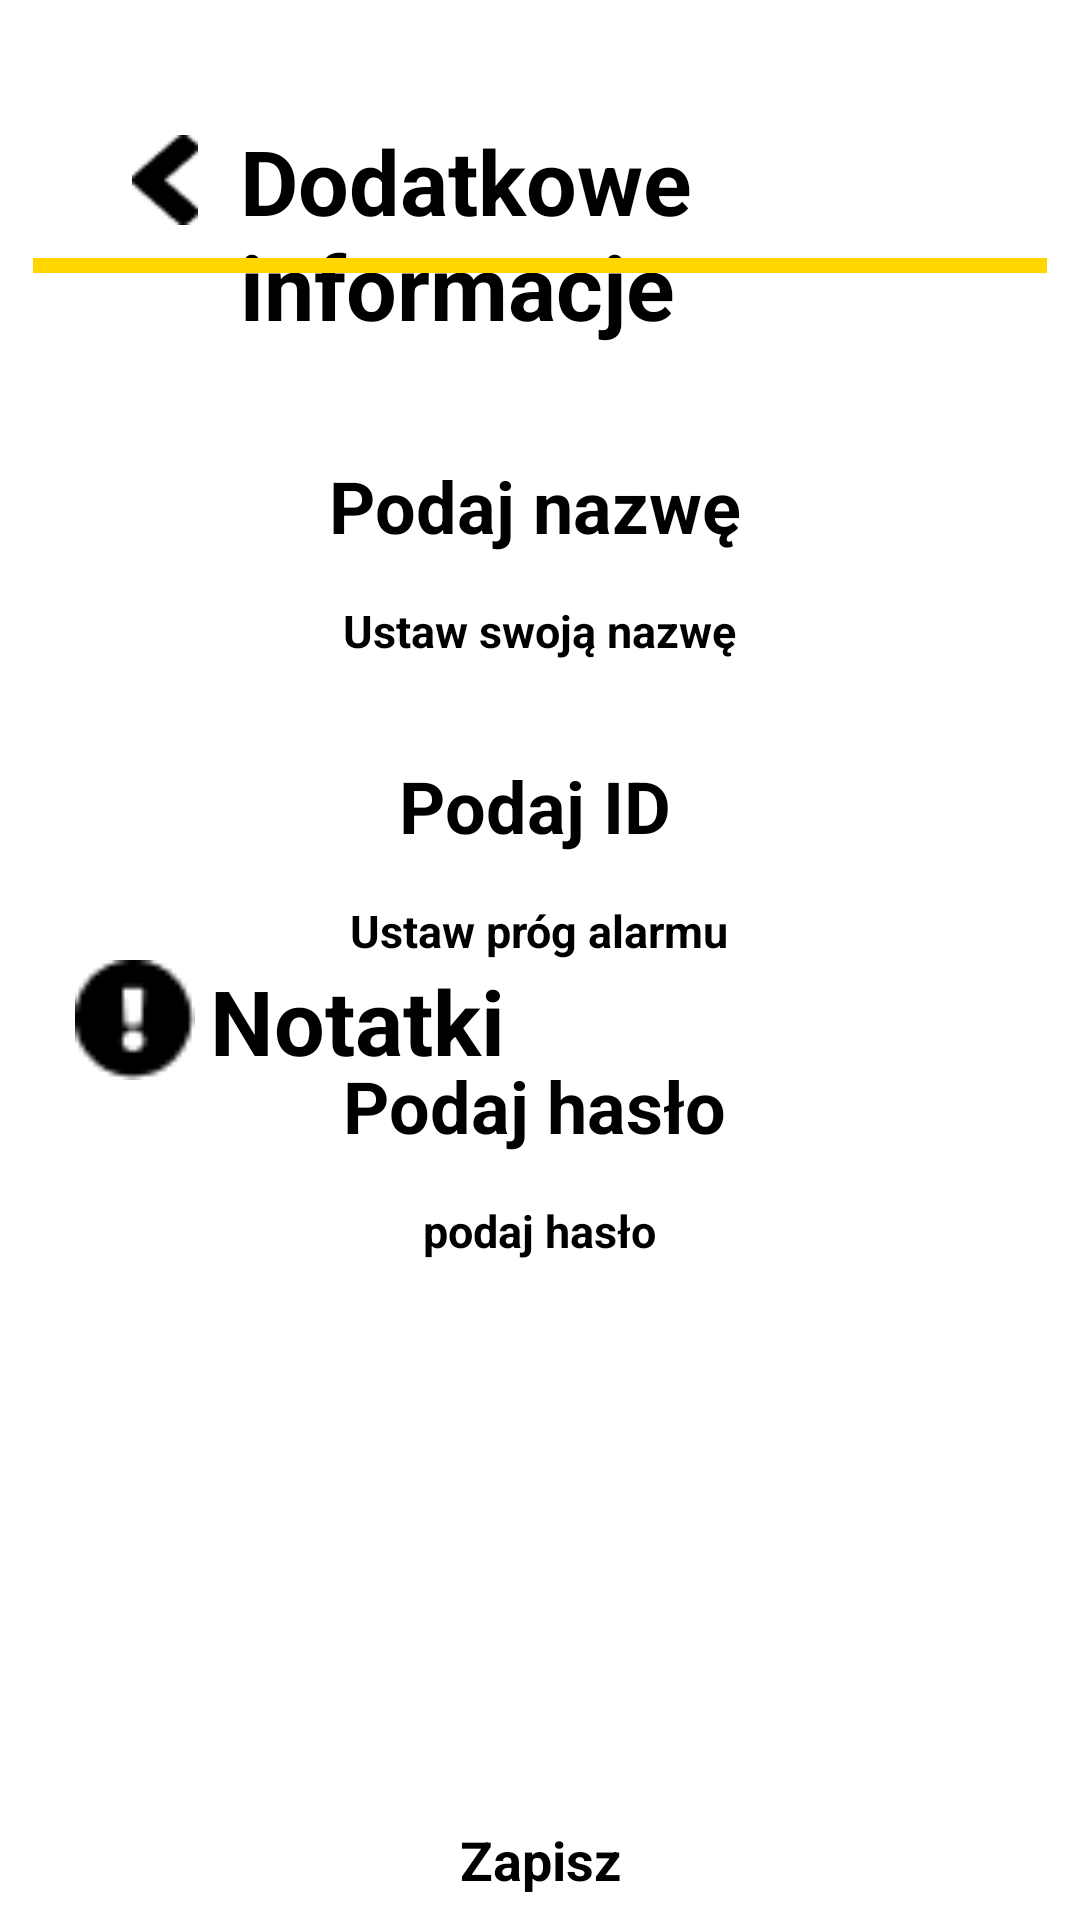

Where icons sit on this 1080w x 1920h app screen, as (x1, y1, x2, y2):
alert: (75, 960, 195, 1080)
